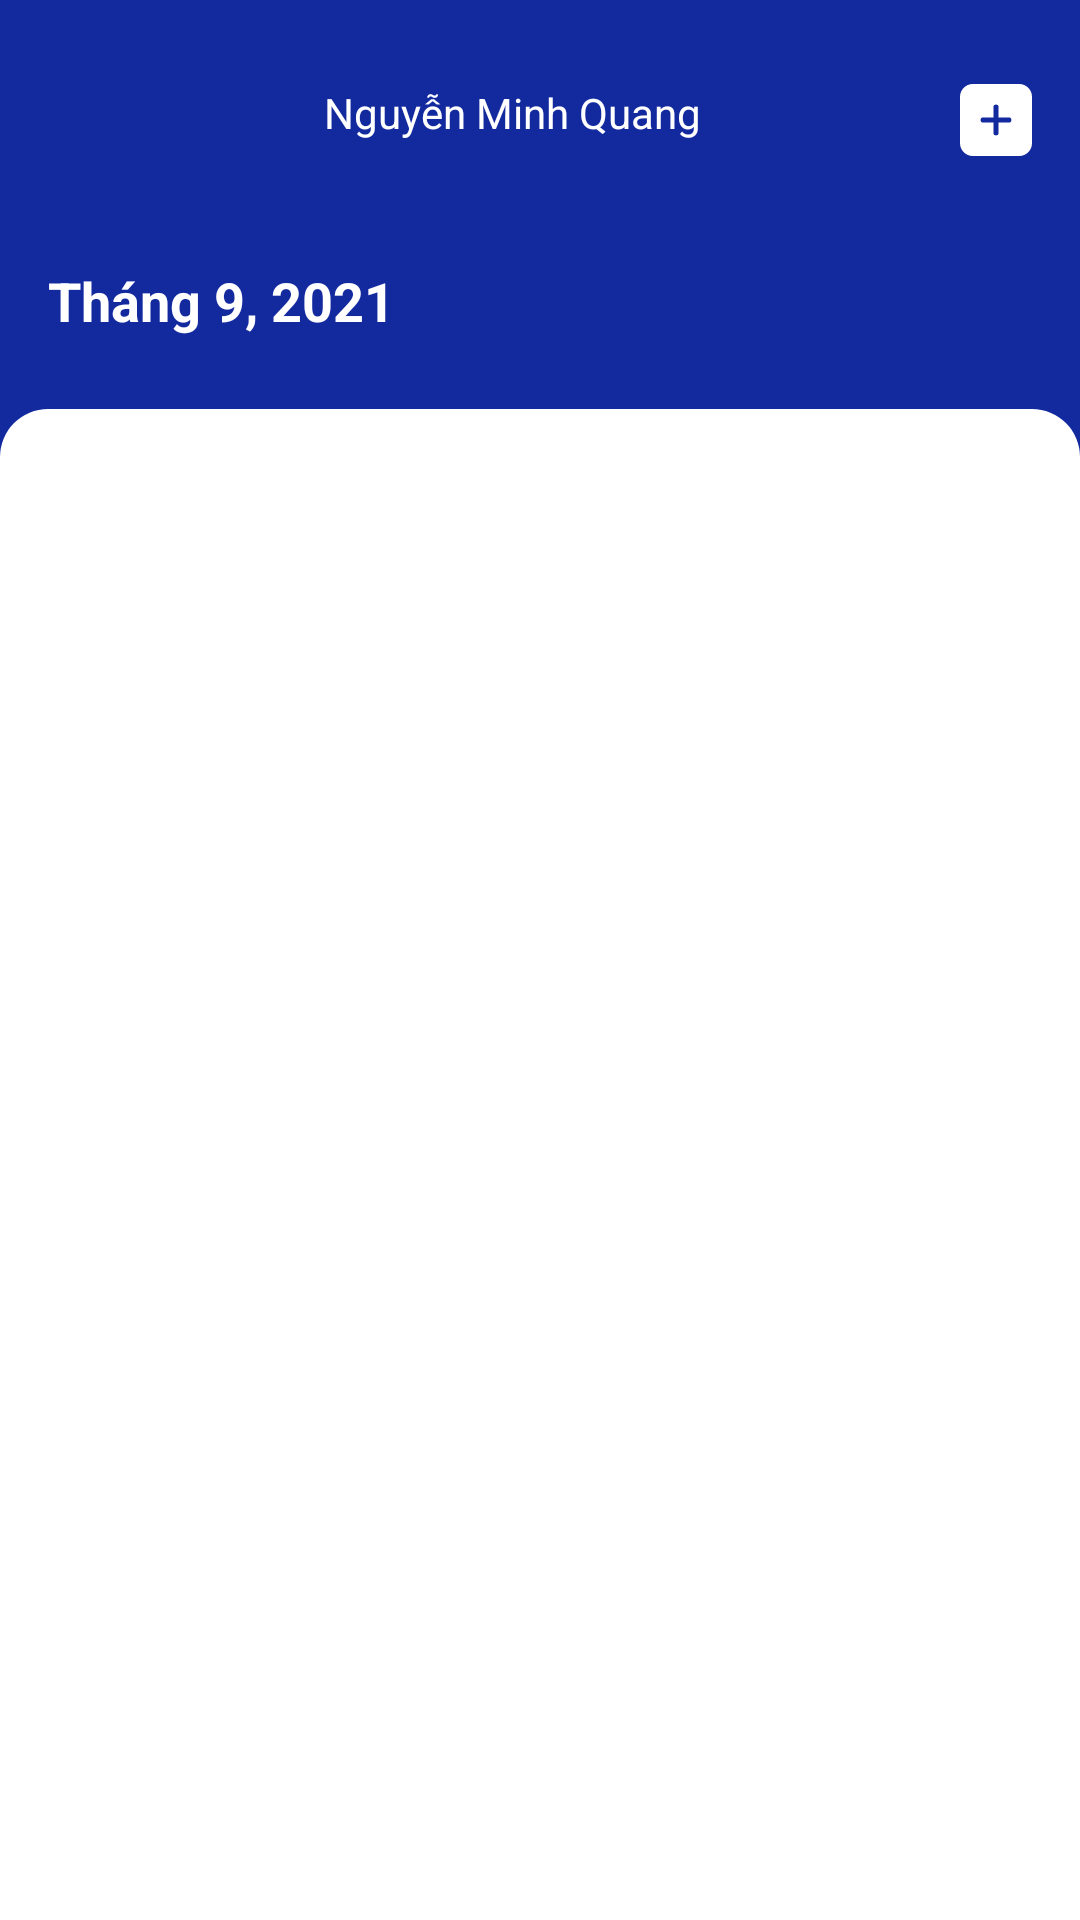

Screen size 1080*1920. Icon name, then its center in pixels as [x,y]:
add: [996,120]
